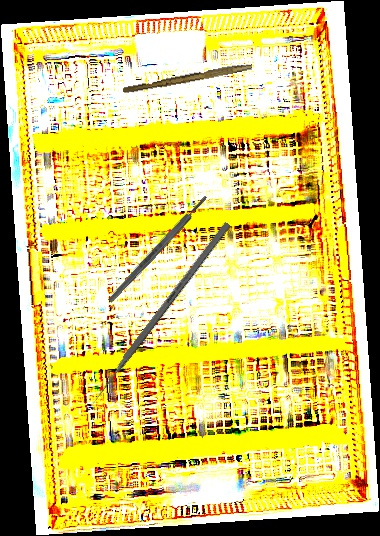Pusher: (85, 221, 232, 411)
Scalpel Handle: (106, 194, 210, 304), (122, 59, 253, 97)
